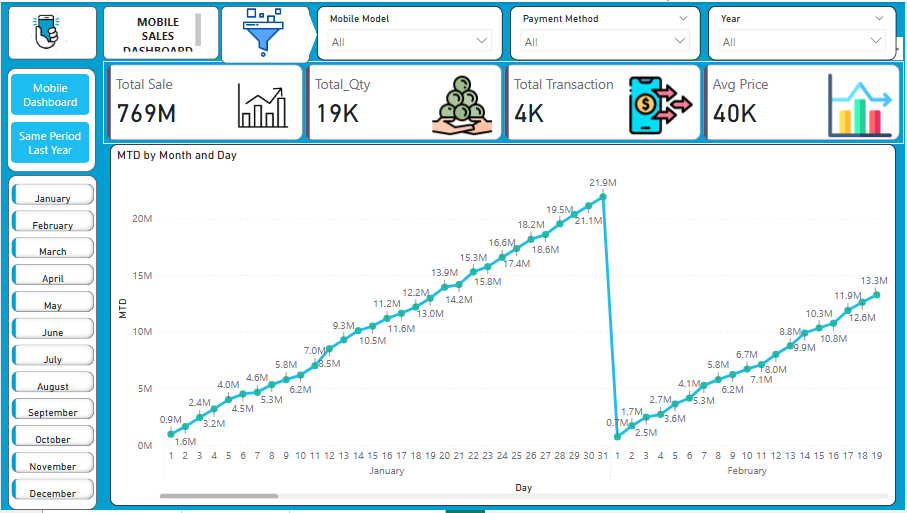

What the dashboard file says about the page in this screenshot:
{"tool":"powerbi","page":{"name":"MTD Report","canvas":[1280,720],"ordinal":1},"visuals":[{"type":"shape","box":[10,5.7,125.7,75.7],"z":0},{"type":"image","box":[26,5,77,77],"z":1000},{"type":"shape","box":[8.6,92.9,125.7,147.1],"z":2000},{"type":"cardVisual","fields":{"Data":["Mobile_sale_Dashboard.Total Sale","Mobile_sale_Dashboard.Total_Qty","Mobile_sale_Dashboard.Total Transaction","Mobile_sale_Dashboard.Avg Price"]},"box":[144.3,84.3,1135.7,117.1],"z":3000},{"type":"slicer","fields":{"Values":["Mobile_sale_Dashboard.Mobile Model"]},"box":[448.6,5.7,262.9,77.1],"z":4000},{"type":"slicer","fields":{"Values":["Mobile_sale_Dashboard.Payment Method"]},"box":[721.4,5.7,270,77.1],"z":5000},{"type":"slicer","fields":{"Values":["Custom Calender.Date.Variation.Date Hierarchy.Year"]},"box":[1001.4,5.7,267.1,77.1],"z":6000},{"type":"shape","box":[311.4,5.7,125.7,81.4],"z":7000},{"type":"image","box":[288.6,2.9,165.7,81.4],"z":8000},{"type":"shape","box":[417.1,5.7,31.4,81.4],"z":9000},{"type":"shape","box":[144.3,5.7,164.3,75.7],"z":10000},{"type":"textbox","box":[164.3,11.4,124.3,64.3],"z":11000},{"type":"lineChart","fields":{"Y":["Mobile_sale_Dashboard.MTD"],"Category":["Custom Calender.Date.Variation.Date Hierarchy.Month","Custom Calender.Date.Variation.Date Hierarchy.Day"]},"box":[154.5,201.3,1114,513.1],"z":12000},{"type":"shape","box":[9.9,245.2,126.1,474.8],"z":13000},{"type":"advancedSlicerVisual","fields":{"Values":["Custom Calender.Date.Variation.Date Hierarchy.Month"]},"box":[9.9,252.3,127.6,462],"z":14000},{"type":"pageNavigator","box":[14.2,102,112,126.1],"z":14001}]}

Visuals, with their boxes in screenshot pixels (x1, y1, x2, y2), scaled from the page's 1280x720 canvas onto the 907x513 screenshot:
shape: x1=7, y1=4, x2=96, y2=58
image: x1=18, y1=4, x2=73, y2=58
shape: x1=6, y1=66, x2=95, y2=171
cardVisual - Mobile_sale_Dashboard.Total Sale x Mobile_sale_Dashboard.Total_Qty: x1=102, y1=60, x2=906, y2=143
slicer - Mobile_sale_Dashboard.Mobile Model: x1=318, y1=4, x2=504, y2=59
slicer - Mobile_sale_Dashboard.Payment Method: x1=511, y1=4, x2=702, y2=59
slicer - Custom Calender.Date.Variation.Date Hierarchy.Year: x1=710, y1=4, x2=899, y2=59
shape: x1=221, y1=4, x2=310, y2=62
image: x1=205, y1=2, x2=322, y2=60
shape: x1=296, y1=4, x2=318, y2=62
shape: x1=102, y1=4, x2=219, y2=58
textbox: x1=116, y1=8, x2=205, y2=54
lineChart - Mobile_sale_Dashboard.MTD x Custom Calender.Date.Variation.Date Hierarchy.Month: x1=109, y1=143, x2=899, y2=509
shape: x1=7, y1=175, x2=96, y2=512
advancedSlicerVisual - Custom Calender.Date.Variation.Date Hierarchy.Month: x1=7, y1=180, x2=97, y2=509
pageNavigator: x1=10, y1=73, x2=89, y2=163
